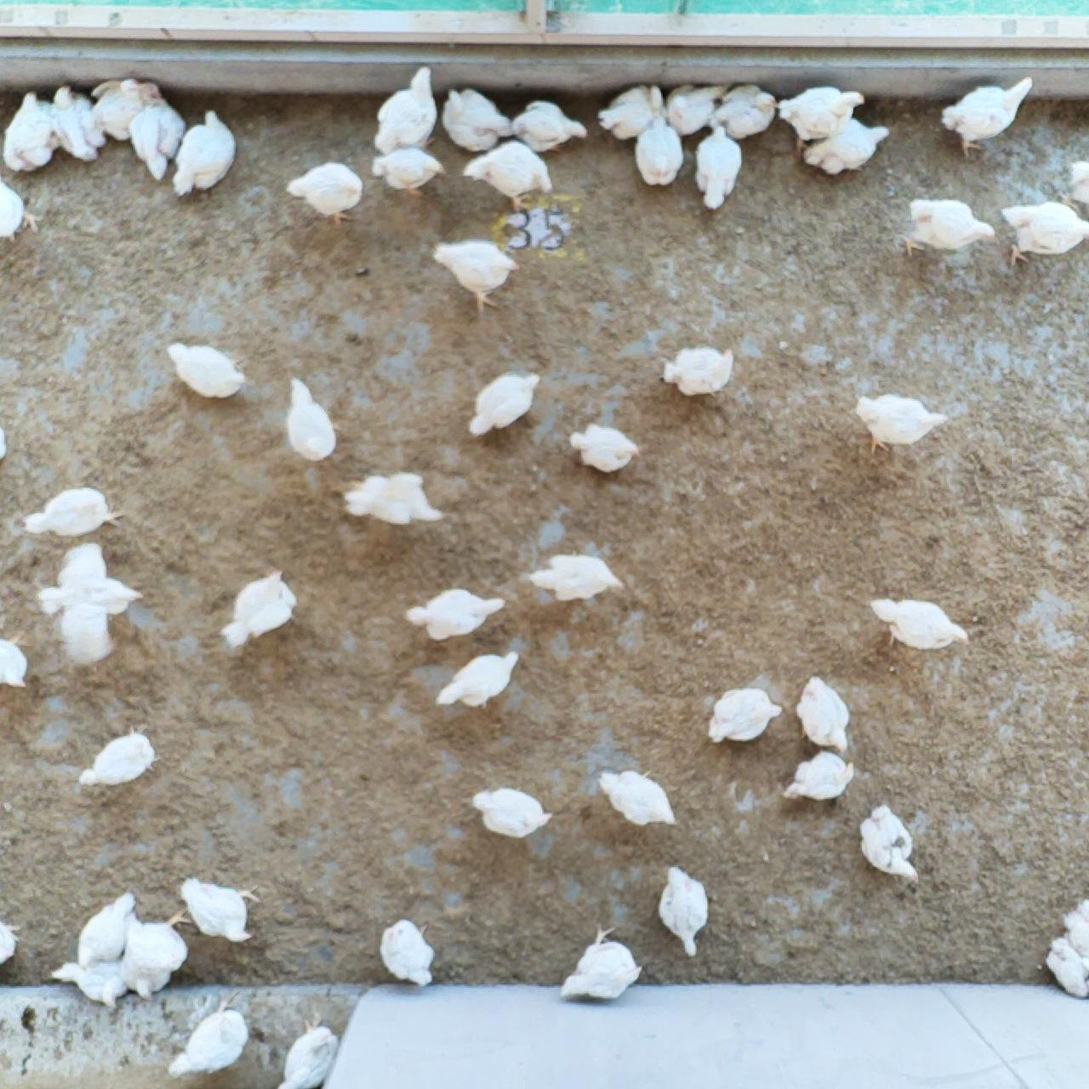chicken: (40, 537, 144, 670), (942, 71, 1031, 161), (429, 237, 528, 311), (461, 137, 561, 208), (340, 466, 441, 535), (869, 590, 974, 656), (25, 484, 128, 550), (219, 566, 299, 649), (906, 189, 995, 263), (402, 582, 505, 645), (997, 201, 1089, 271), (649, 865, 716, 959), (527, 549, 623, 610), (855, 394, 949, 456), (179, 875, 266, 941), (174, 110, 241, 191), (562, 927, 637, 999), (173, 1003, 245, 1078), (123, 915, 188, 998), (375, 65, 437, 152), (470, 782, 558, 843), (77, 727, 163, 789), (778, 84, 865, 144), (287, 157, 368, 221), (375, 918, 448, 989), (859, 806, 922, 887), (810, 111, 886, 177), (708, 681, 779, 750), (168, 338, 242, 402), (288, 375, 338, 467), (127, 90, 180, 176), (471, 371, 538, 439), (664, 339, 734, 404), (598, 768, 678, 824), (76, 894, 136, 967), (277, 1023, 343, 1089), (57, 955, 139, 1008), (565, 420, 641, 477), (440, 653, 520, 707), (443, 88, 514, 148), (785, 747, 857, 806), (6, 86, 54, 172), (797, 676, 850, 751), (52, 83, 100, 165), (86, 75, 145, 140), (372, 145, 445, 197), (603, 83, 666, 142), (694, 124, 738, 208), (514, 101, 590, 147), (634, 117, 681, 188), (1043, 934, 1089, 1005), (670, 80, 725, 136), (720, 84, 773, 140), (1, 175, 37, 243), (1059, 898, 1089, 957), (1, 639, 28, 694), (1059, 156, 1089, 205), (3, 917, 19, 972)
